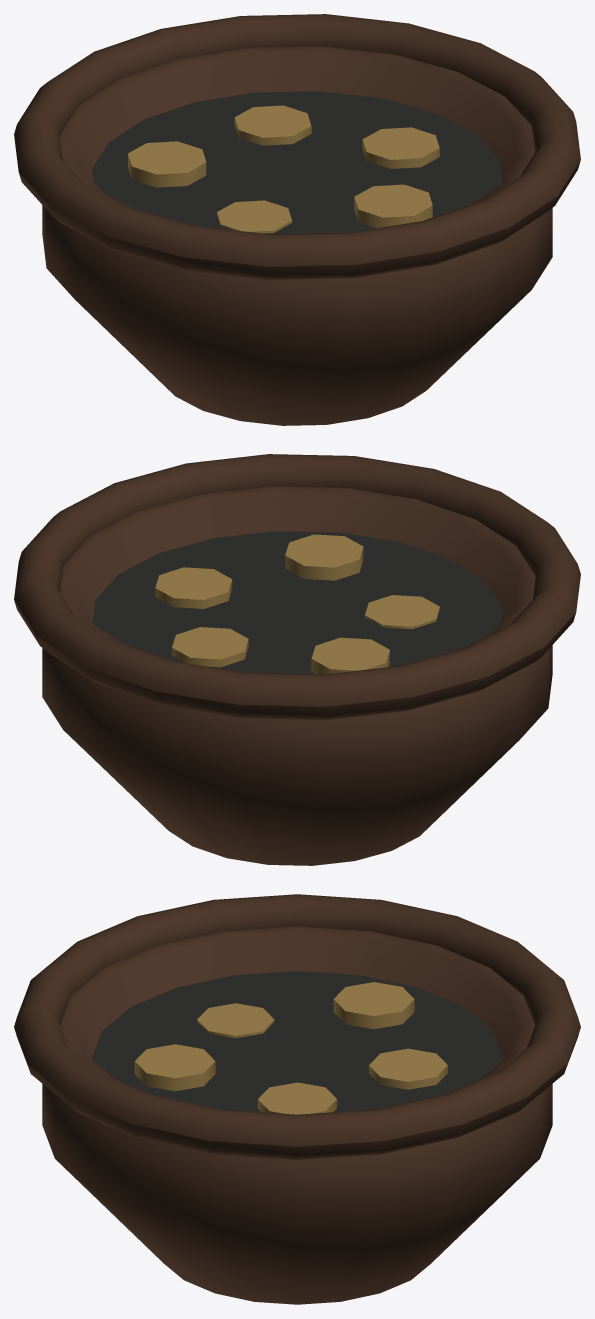
The model's file is feijoada.obj.
3 views of the same model, one above another, from view 1: azimuth 30°, elevation 25°; view 2: azimuth 150°, elevation 25°; view 3: azimuth 270°, elevation 25° (orthographic).
Parts seen in each view (by area): view 1: feijoada; view 2: feijoada; view 3: feijoada.
Part boxes in pixels (box(x1,y1,x2,y2)): feijoada: box(14, 14, 580, 425); feijoada: box(14, 454, 580, 865); feijoada: box(14, 894, 580, 1304).
Bounding box in the file's own units: 2 × 0.93 × 2.
